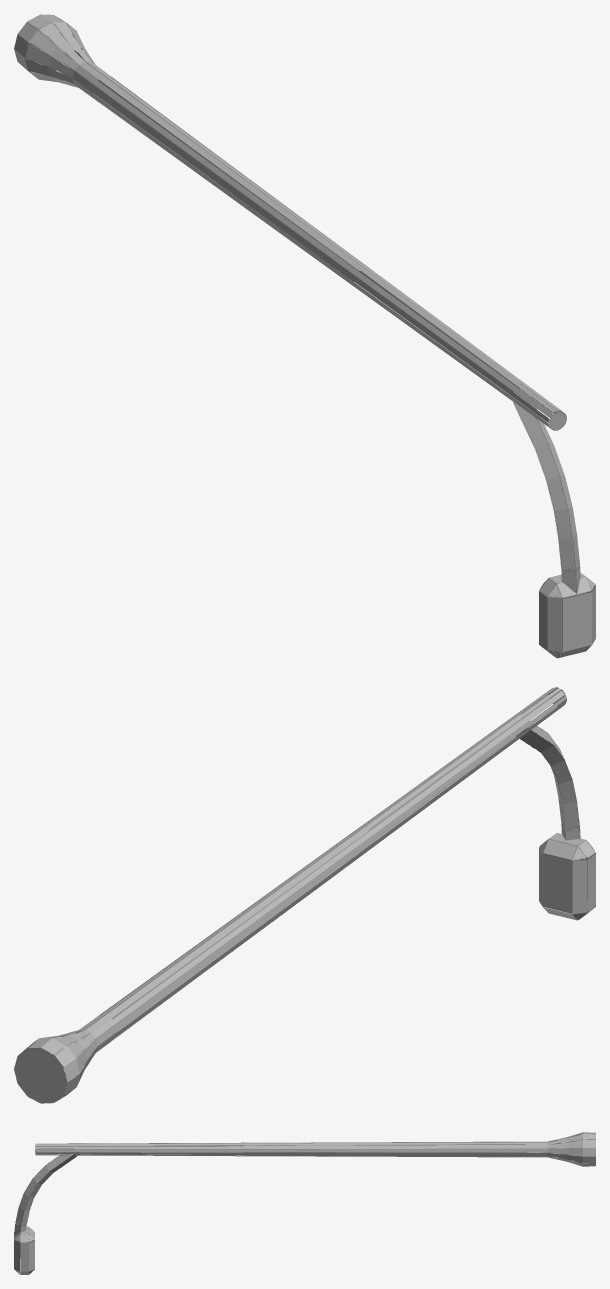
The model's file is pz_street_pole_08.obj.
3 views of the same model, one above another, from view 1: azimuth 30°, elevation 25°; view 2: azimuth 150°, elevation 25°; view 3: azimuth 270°, elevation 25° (orthographic). The views are drawn at different scales.
Parts seen in each view (by area): view 1: pz_street_pole_08_|_tapered_native_street_pole, pz_street_pole_08_|_rounded_street_lamp_head, pz_street_pole_08_|_EDITABLE_curved_street_lamp_arm; view 2: pz_street_pole_08_|_tapered_native_street_pole, pz_street_pole_08_|_rounded_street_lamp_head, pz_street_pole_08_|_EDITABLE_curved_street_lamp_arm; view 3: pz_street_pole_08_|_tapered_native_street_pole, pz_street_pole_08_|_EDITABLE_curved_street_lamp_arm, pz_street_pole_08_|_rounded_street_lamp_head.
Part boxes in pixels (x1=…): pz_street_pole_08_|_tapered_native_street_pole: x1=14, y1=14, x2=566, y2=430; pz_street_pole_08_|_rounded_street_lamp_head: x1=539, y1=572, x2=595, y2=658; pz_street_pole_08_|_EDITABLE_curved_street_lamp_arm: x1=509, y1=389, x2=580, y2=599; pz_street_pole_08_|_tapered_native_street_pole: x1=14, y1=687, x2=566, y2=1103; pz_street_pole_08_|_rounded_street_lamp_head: x1=539, y1=833, x2=595, y2=920; pz_street_pole_08_|_EDITABLE_curved_street_lamp_arm: x1=511, y1=717, x2=580, y2=860; pz_street_pole_08_|_tapered_native_street_pole: x1=35, y1=1132, x2=595, y2=1166; pz_street_pole_08_|_EDITABLE_curved_street_lamp_arm: x1=14, y1=1146, x2=80, y2=1255; pz_street_pole_08_|_rounded_street_lamp_head: x1=14, y1=1226, x2=34, y2=1274.
Size of the model in its own units: 0.148 by 0.644 by 2.48.
Materials: 1 (1 with a texture image).
